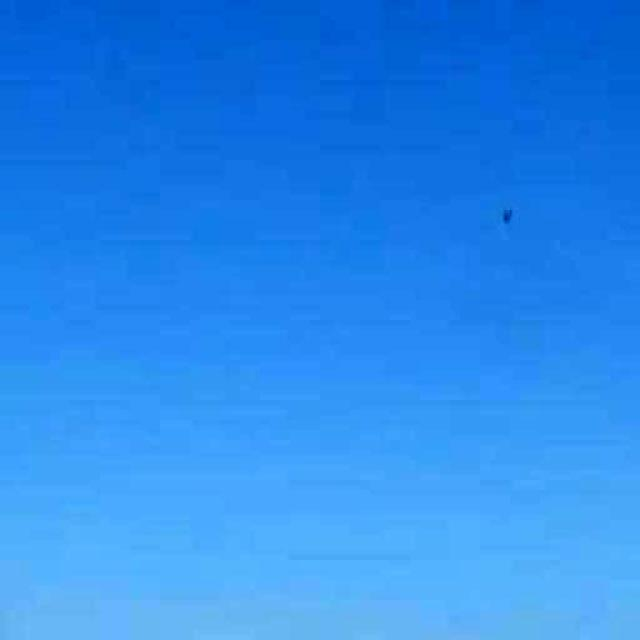drone: (476, 178, 538, 248)
